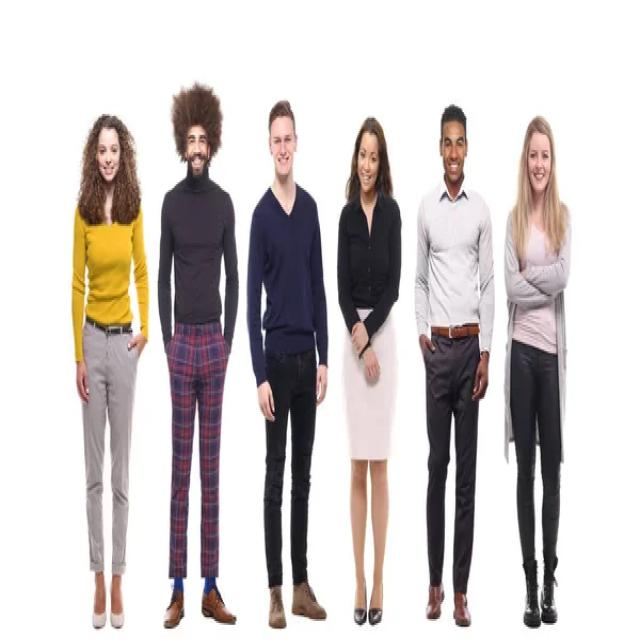human: (156, 85, 240, 632), (246, 99, 329, 632), (68, 111, 151, 633), (414, 102, 496, 628), (503, 116, 572, 630), (336, 114, 404, 629)
